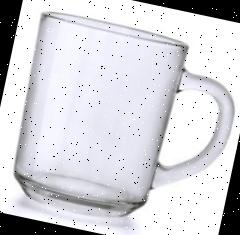glass: (0, 7, 240, 235)
